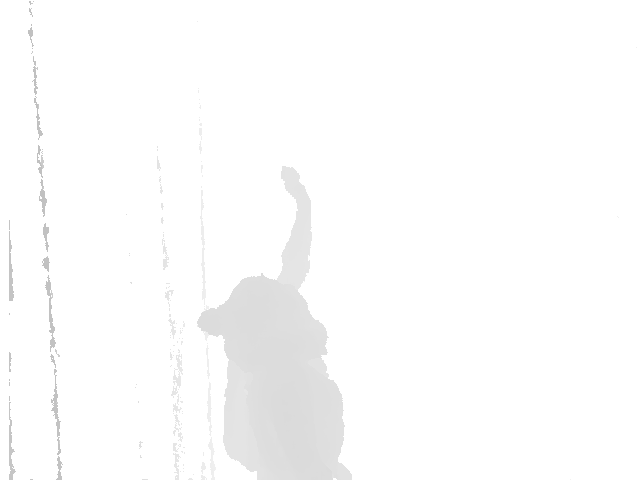hand: (279, 163, 309, 199)
head: (196, 274, 318, 347)
person: (195, 164, 351, 479)
